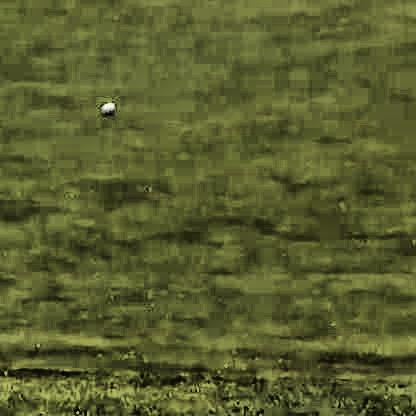golfball: (98, 98, 114, 113)
